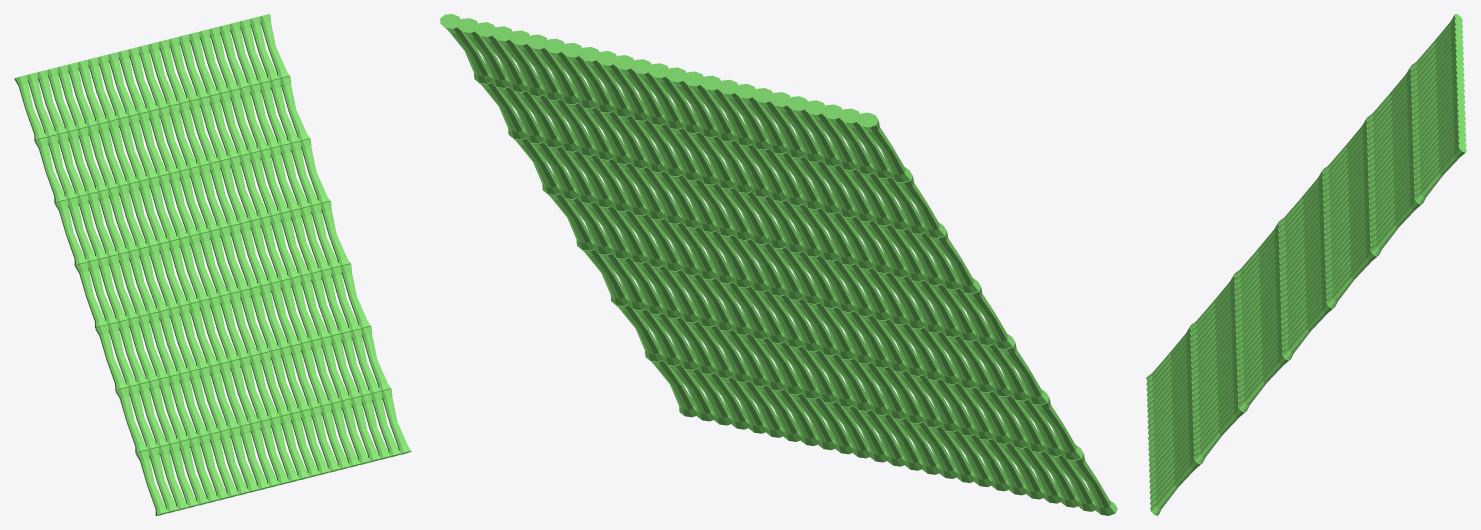
Rendered from Bamboo Roof.fbx.
The picture shows the model from 3 angles, left to right: view 1: azimuth 30°, elevation 25°; view 2: azimuth 150°, elevation 25°; view 3: azimuth 270°, elevation 25°; orthographic projection. The views are drawn at different scales.
Parts seen in each view (by area): view 1: Bamboo roof; view 2: Bamboo roof; view 3: Bamboo roof.
Part boxes in pixels (left/top/right/bottom): Bamboo roof: left=14, top=14, right=411, bottom=515; Bamboo roof: left=440, top=14, right=1117, bottom=515; Bamboo roof: left=1146, top=14, right=1466, bottom=515.
Size of the model in its own units: 105 by 132 by 104.
